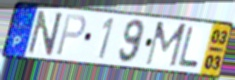1: (98, 17, 116, 62)
9: (118, 19, 146, 65)
L: (177, 26, 200, 69)
M: (143, 20, 189, 69)
N: (26, 9, 65, 57)
P: (54, 13, 88, 58)
